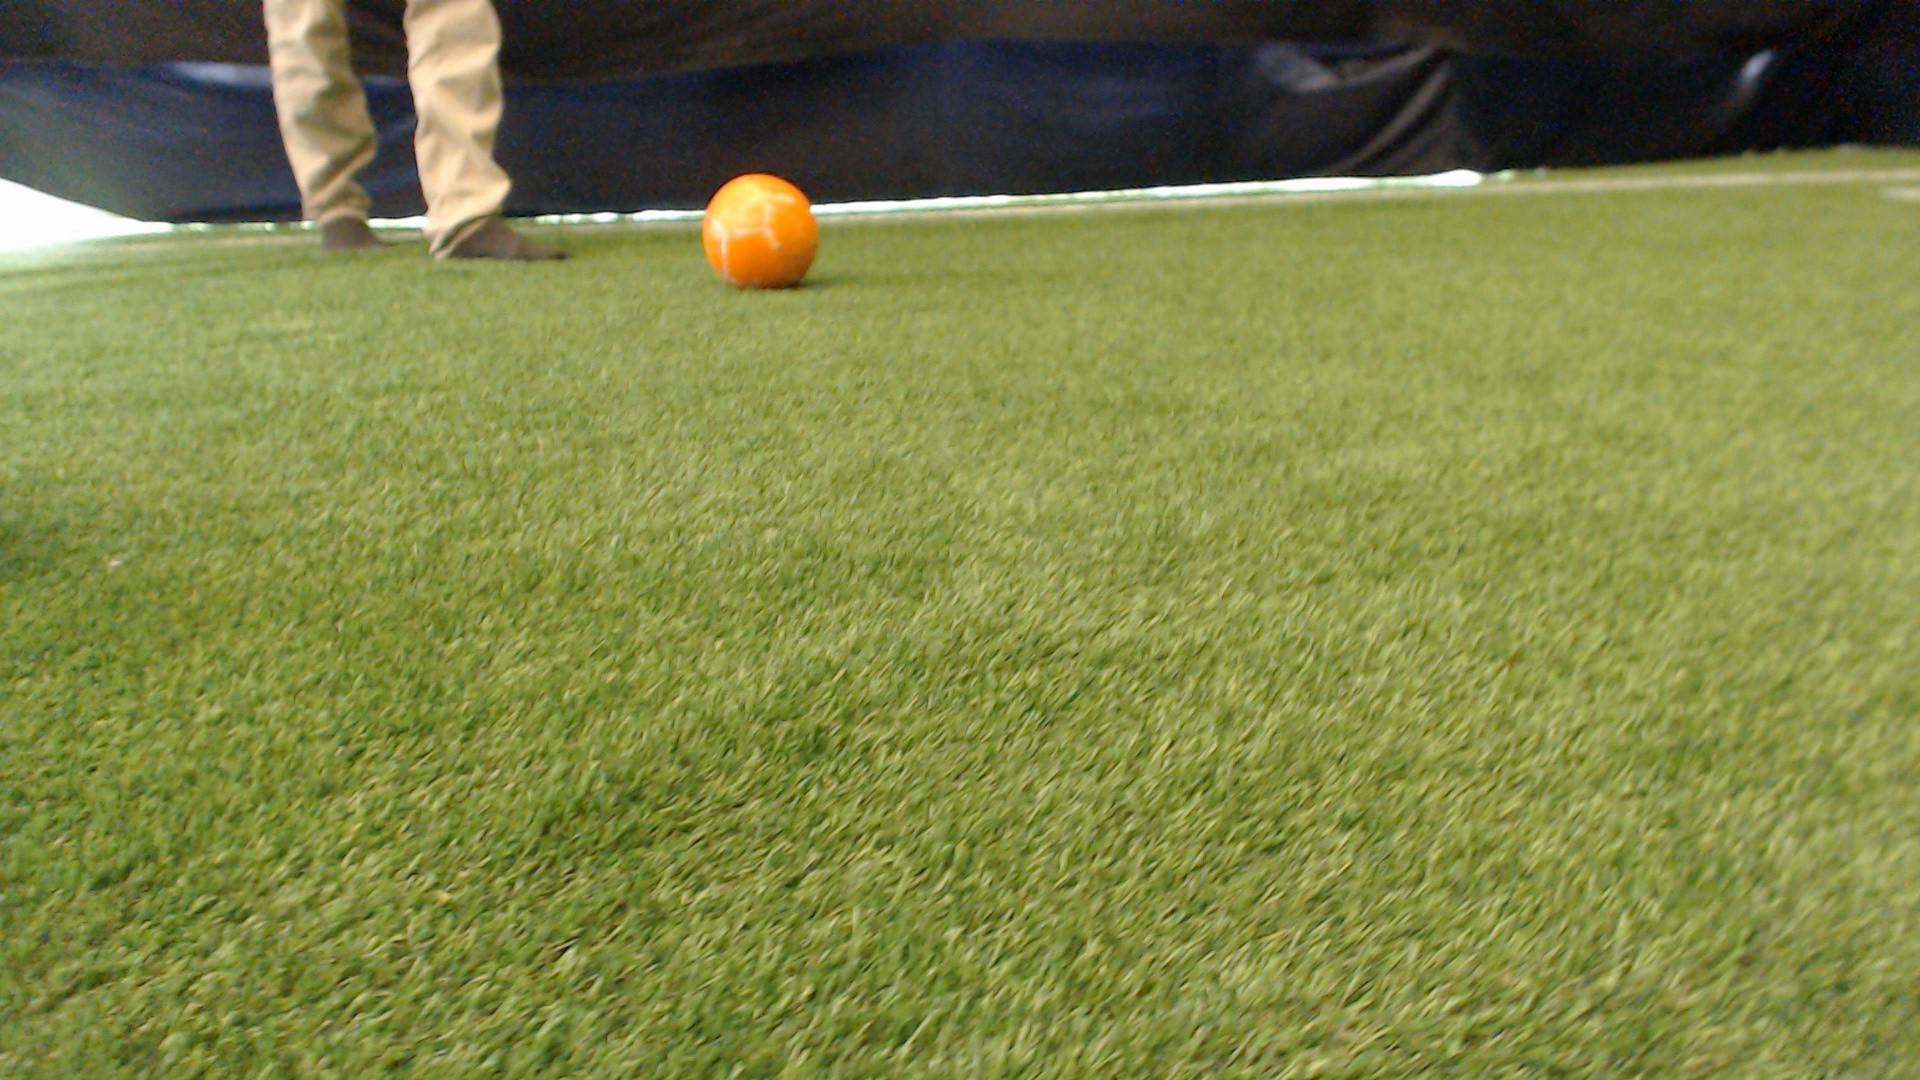bola: (683, 157, 840, 298)
